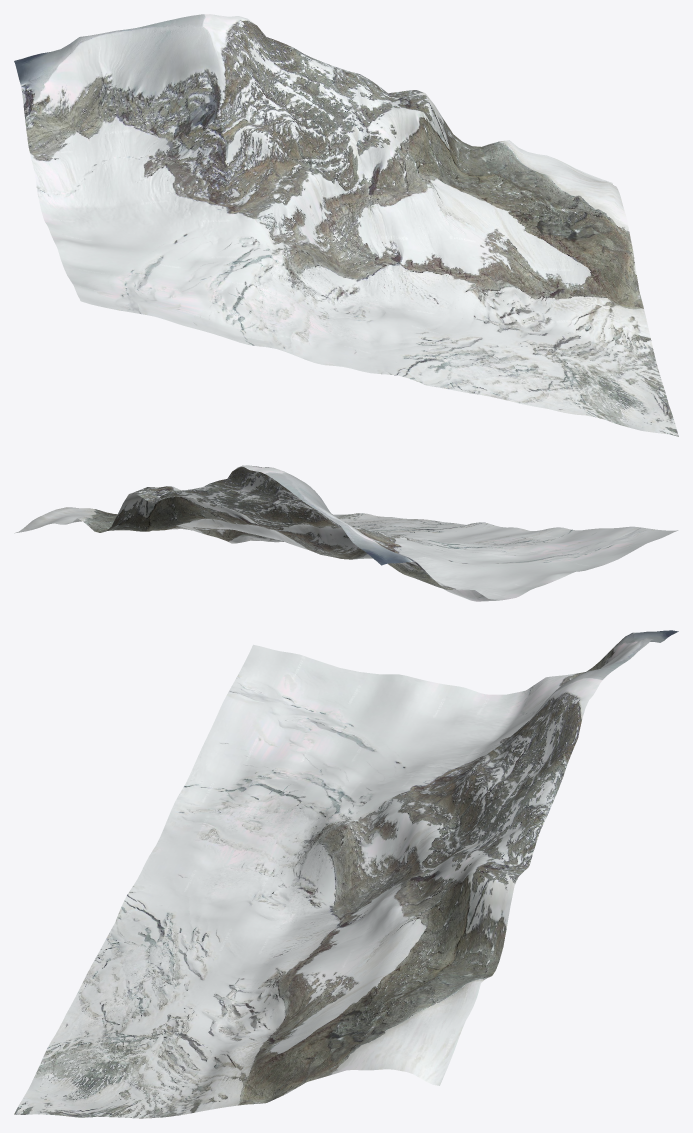
Rendered from SM_GMap_Close01.fbx.
3 views of the same model, one above another, from view 1: azimuth 30°, elevation 25°; view 2: azimuth 150°, elevation 25°; view 3: azimuth 270°, elevation 25° (orthographic). The views are drawn at different scales.
Visible parts, largest first — view 1: SM_GMap_Close01; view 2: SM_GMap_Close01; view 3: SM_GMap_Close01.
Part boxes in pixels (x1,y1,x2,y2): SM_GMap_Close01: (14, 14, 678, 436); SM_GMap_Close01: (14, 465, 678, 601); SM_GMap_Close01: (14, 630, 678, 1118).
Bounding box in the file's own units: 476850 × 209609 × 397244.
